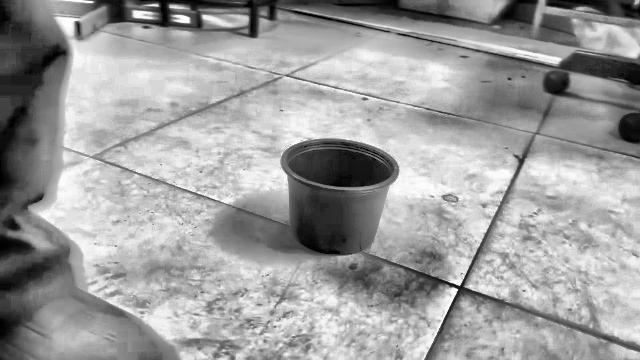pot: (281, 139, 399, 254)
